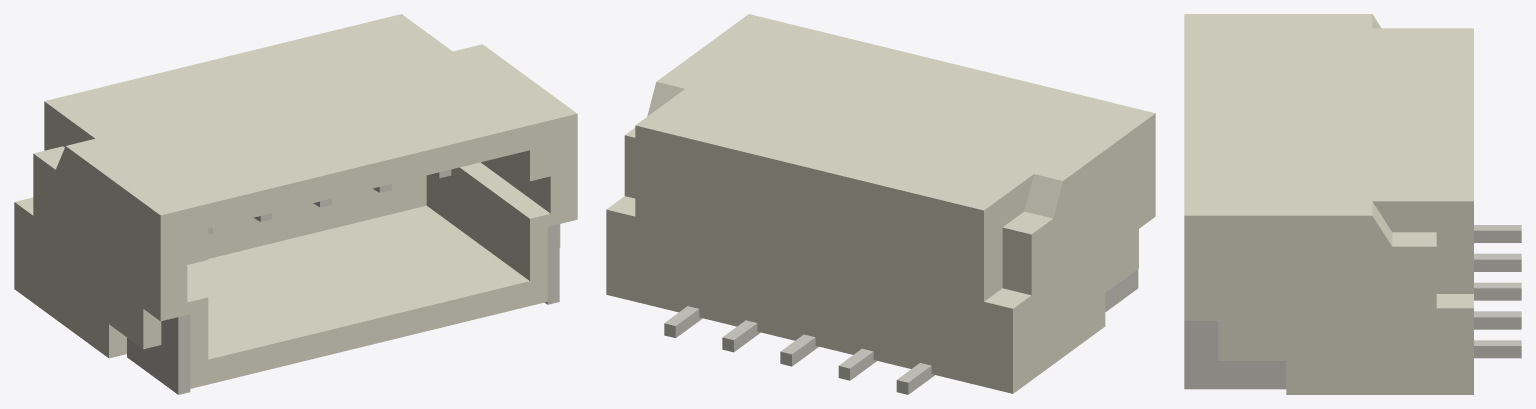
Rendered from kc-jst_sh_sm05b-srss-tb_1x05-1mp_p1.00mm_horizontal.glb.
3 views of the same model, side by side, from view 1: azimuth 30°, elevation 25°; view 2: azimuth 150°, elevation 25°; view 3: azimuth 270°, elevation 25° (orthographic). The views are drawn at different scales.
Visible parts, largest first — view 1: 0.75_0.75_0.6666666666666666_0, 0.6666666666666666_0.6666666666666666_0.5833333333333334_0.8; view 2: 0.75_0.75_0.6666666666666666_0, 0.6666666666666666_0.6666666666666666_0.5833333333333334_0.8; view 3: 0.75_0.75_0.6666666666666666_0, 0.6666666666666666_0.6666666666666666_0.5833333333333334_0.8.
Part boxes in pixels (box(x1,y1,x2,y2)): 0.75_0.75_0.6666666666666666_0: box(14, 14, 577, 388); 0.6666666666666666_0.6666666666666666_0.5833333333333334_0.8: box(127, 169, 559, 394); 0.75_0.75_0.6666666666666666_0: box(606, 14, 1155, 393); 0.6666666666666666_0.6666666666666666_0.5833333333333334_0.8: box(664, 269, 1138, 394); 0.75_0.75_0.6666666666666666_0: box(1184, 14, 1473, 394); 0.6666666666666666_0.6666666666666666_0.5833333333333334_0.8: box(1184, 225, 1521, 389).
Bounding box in the file's own units: 0.7 × 0.296 × 0.495.
